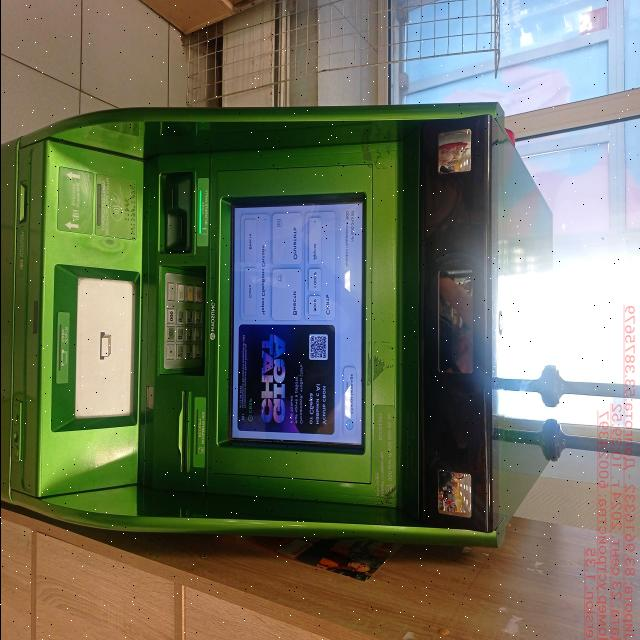bank: (0, 104, 572, 554)
